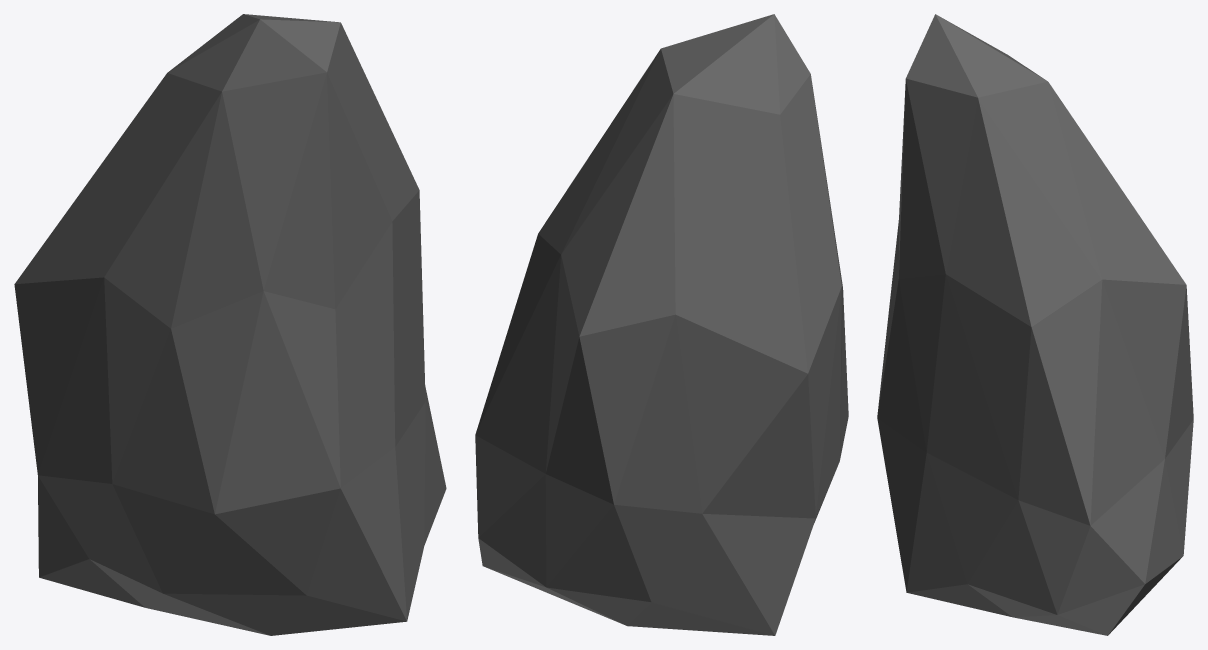
Rendered from SM_Big_Rock_01.fbx.
3 renders of one model, left to right at view 1: azimuth 30°, elevation 25°; view 2: azimuth 150°, elevation 25°; view 3: azimuth 270°, elevation 25°, orthographic. The views are drawn at different scales.
Visible parts, largest first — view 1: Big_Rock_01; view 2: Big_Rock_01; view 3: Big_Rock_01.
Part boxes in pixels (x1,y1,x2,y2): Big_Rock_01: [14, 14, 446, 635]; Big_Rock_01: [475, 14, 848, 635]; Big_Rock_01: [877, 14, 1193, 635].
Bounding box in the file's own units: 2.74 × 4.19 × 2.22.
